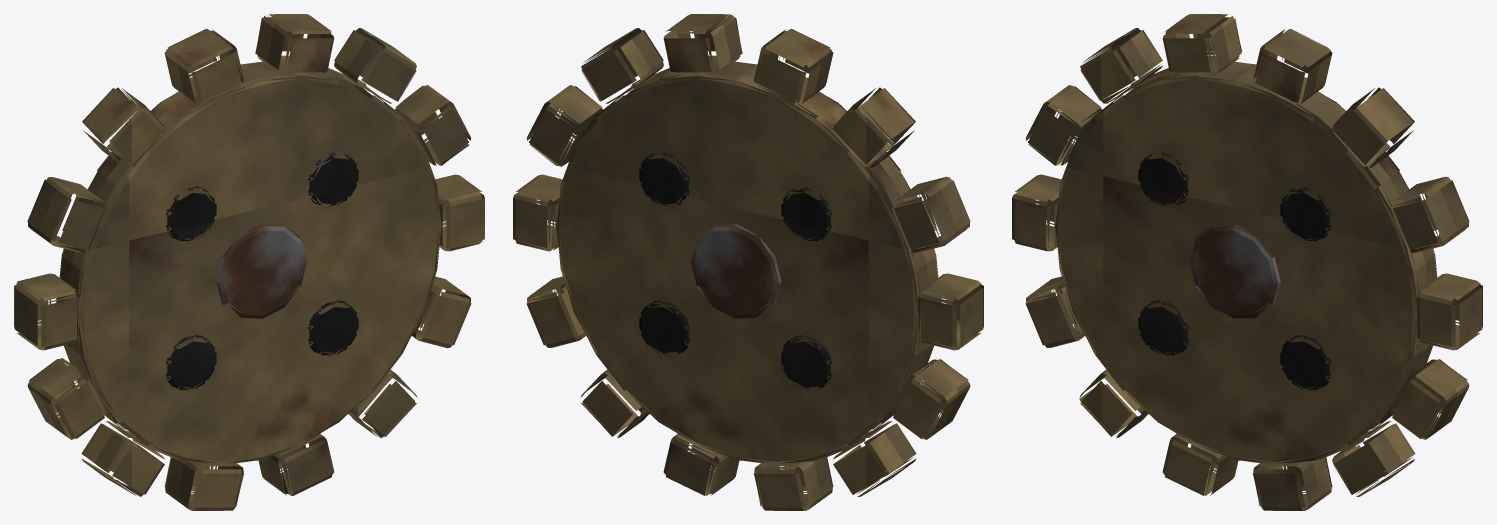
The model's file is P01_brass_gear_cog_v2.glb.
3 views of the same model, side by side, from view 1: azimuth 30°, elevation 25°; view 2: azimuth 150°, elevation 25°; view 3: azimuth 330°, elevation 25° (orthographic).
Parts seen in each view (by area): view 1: P01_brass_gear_cog_v2; view 2: P01_brass_gear_cog_v2; view 3: P01_brass_gear_cog_v2.
Boxes of the visible parts, x1,y1,x2,y2 form: P01_brass_gear_cog_v2: (14, 14, 484, 510); P01_brass_gear_cog_v2: (513, 14, 983, 510); P01_brass_gear_cog_v2: (1012, 14, 1482, 510).
Bounding box in the file's own units: 0.3 × 0.2984 × 0.0335.
3 materials, 3 textured.
